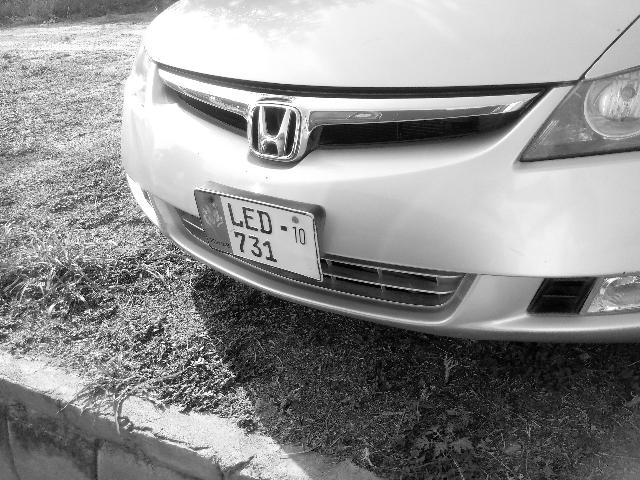Number: (223, 200, 282, 266)
